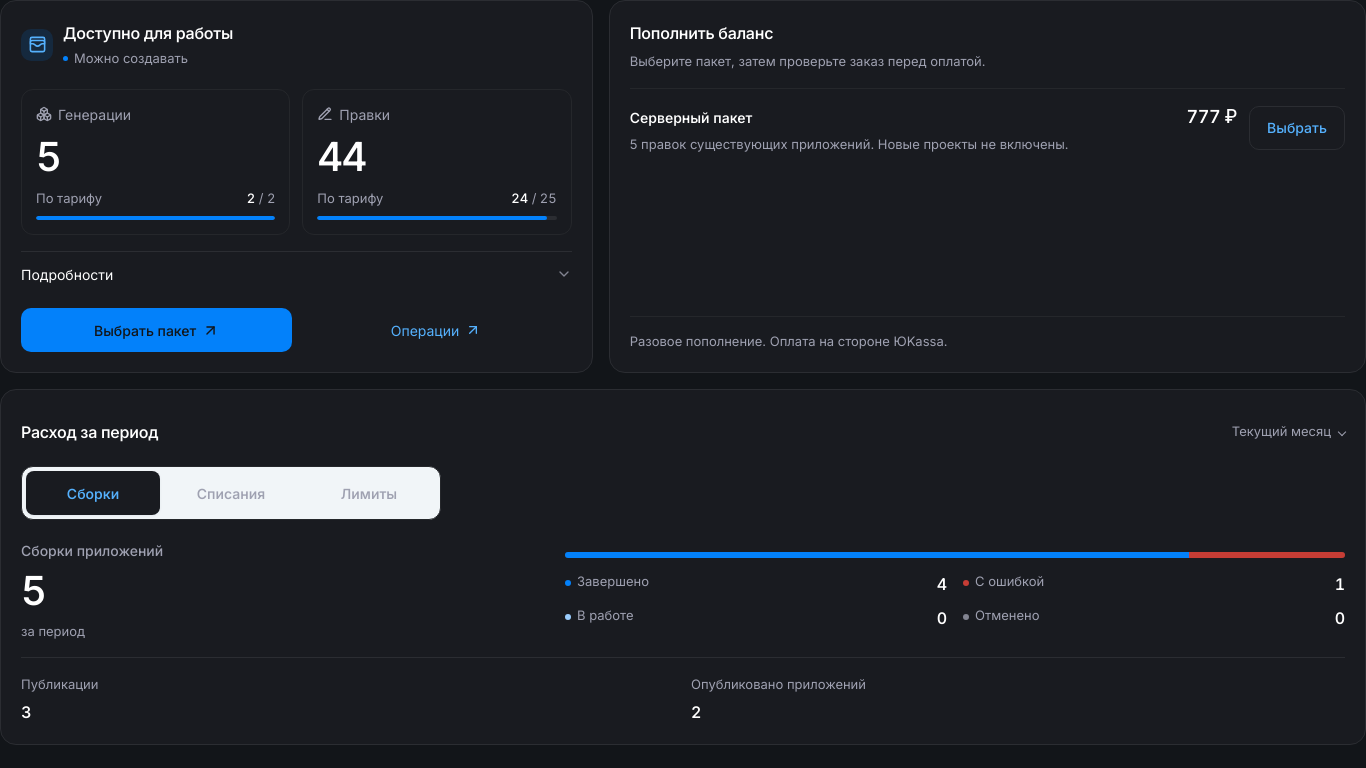
Scenario: shows actual package units and edit-only restriction without promising ruble credit
Expected: the element with class "account-package" shows "5 правок", [630,136,1068,152]
Expected: the element with class "account-package" shows "существующих приложений", [630,136,1068,152]
Click the button "Выбрать" at (1297, 128), box [1249,106,1345,150]
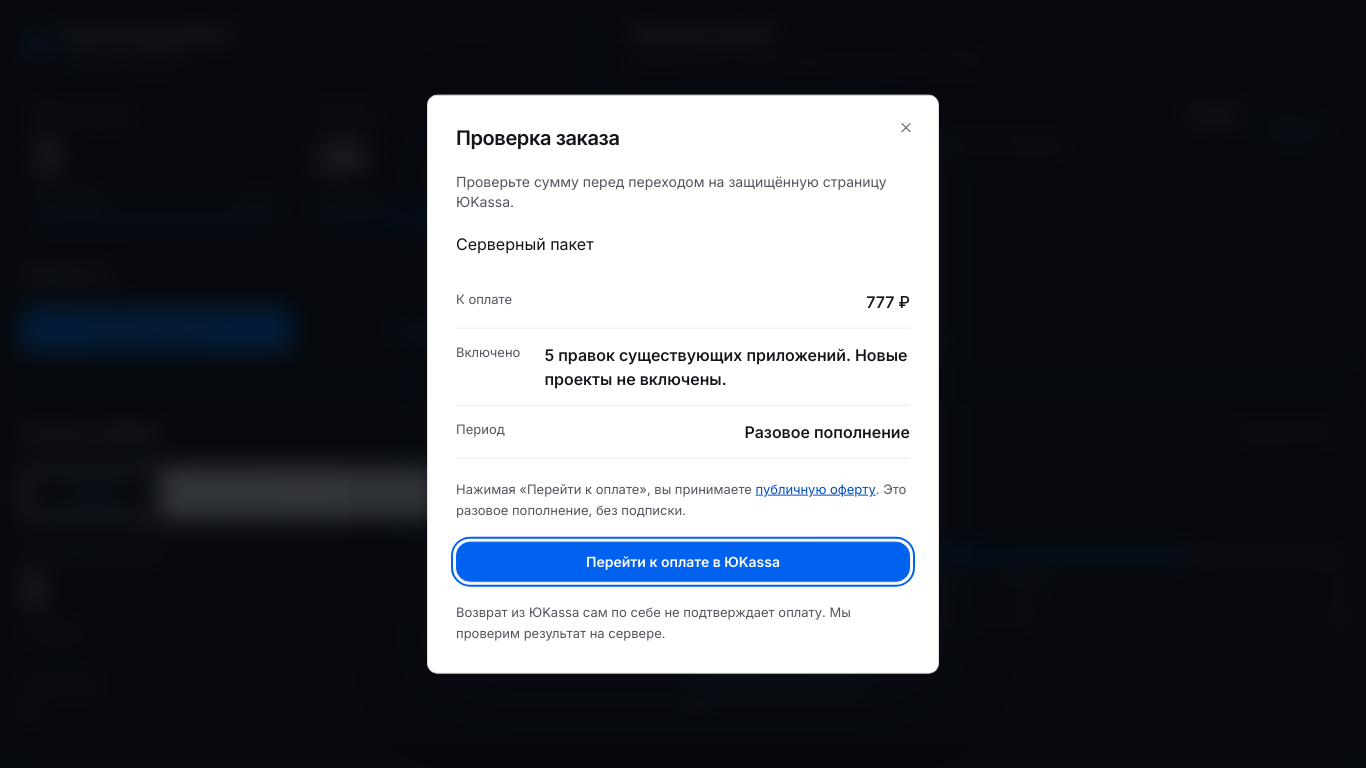
Expected: the dialog shows "Новые проекты не включены", [544,345,907,389]
